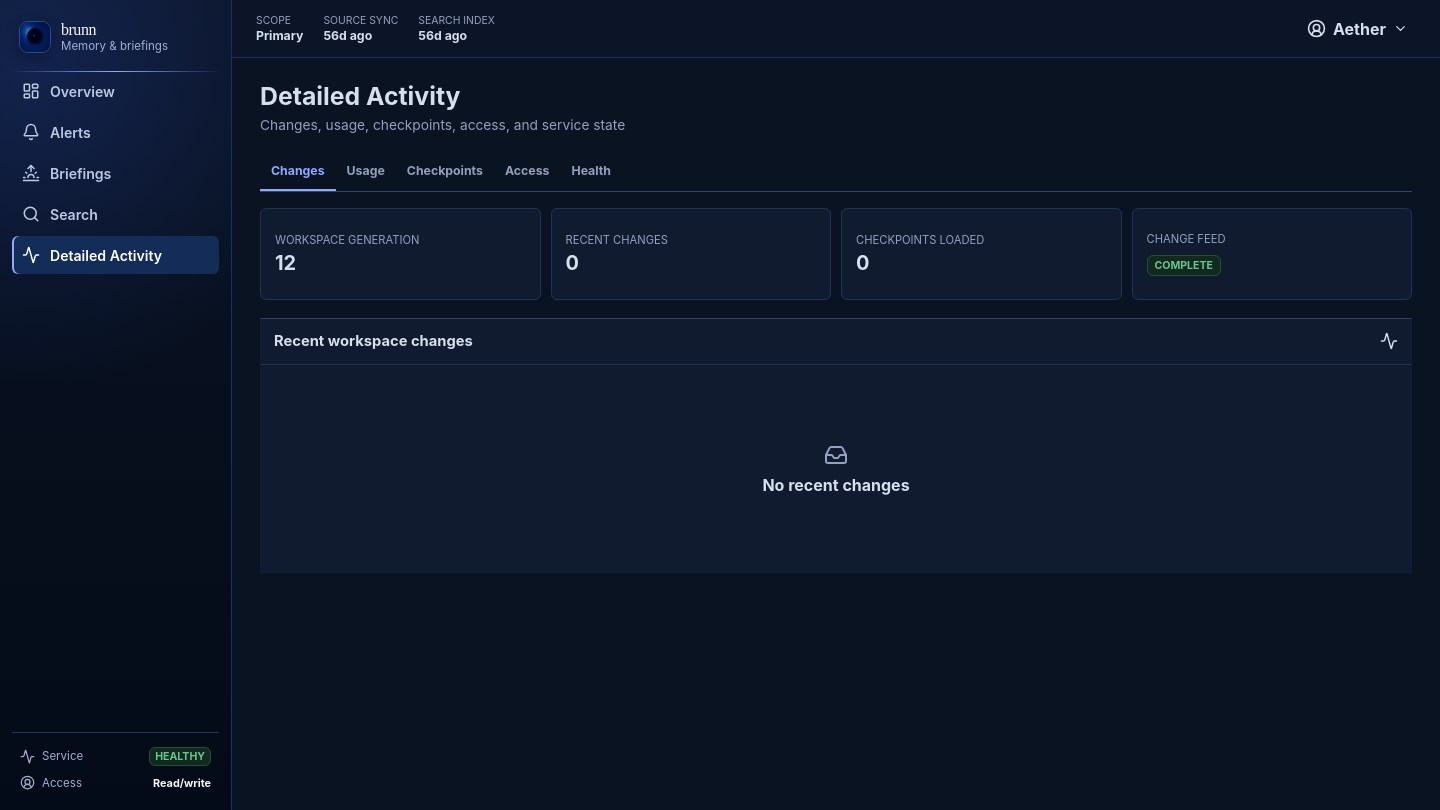
workspace activity and access › defaults new credentials to read/write
Click the tab "Access" at {"x": 527, "y": 172}, box [494, 153, 560, 191]
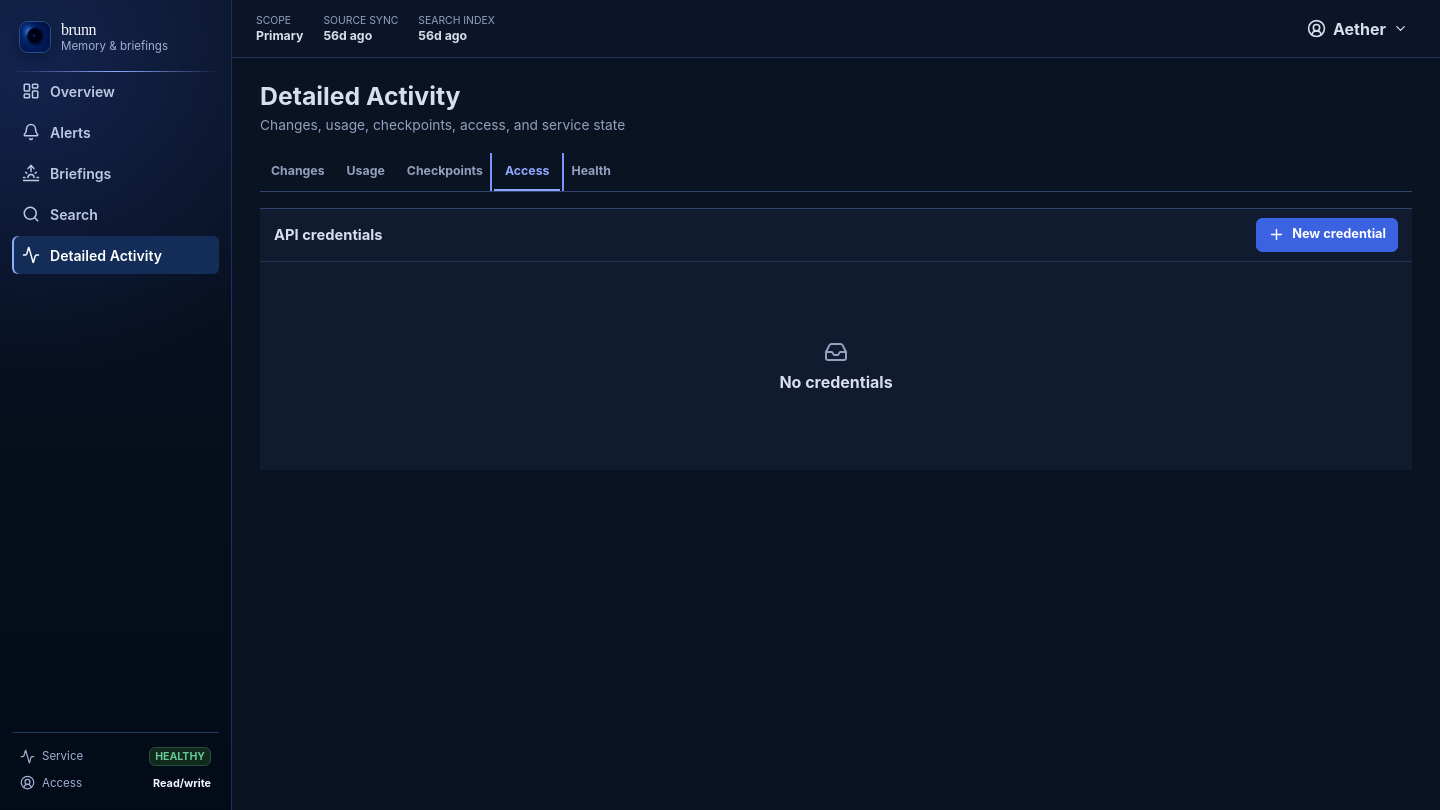
Click the button "New credential" at {"x": 1327, "y": 235}, box [1256, 218, 1398, 252]
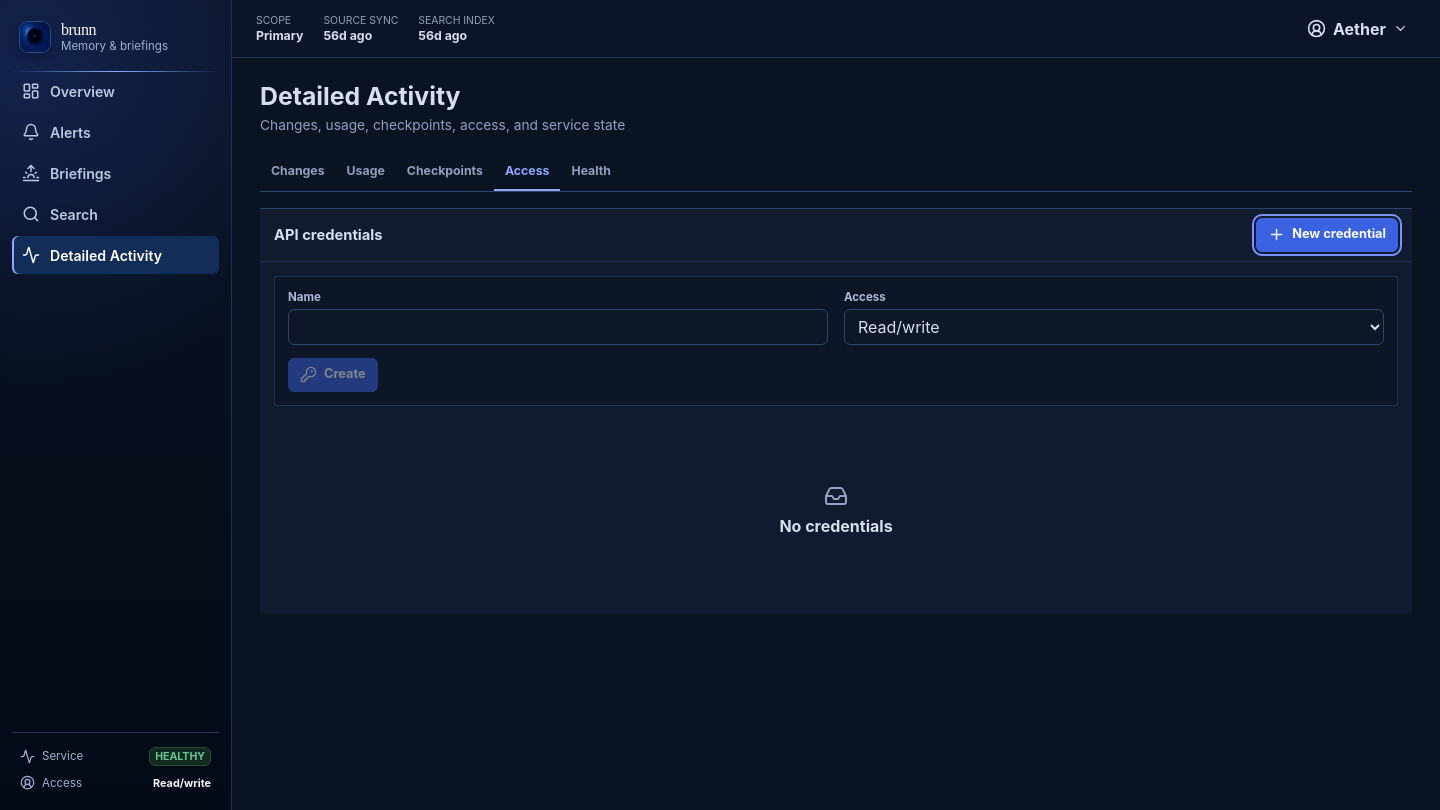
Result: the dropdown labelled "Access" shows "Read/write" at [844, 309, 1384, 345]
Type "Codex on Erebus RW" into the field labelled "Name" at {"x": 558, "y": 327}, box [288, 309, 828, 345]
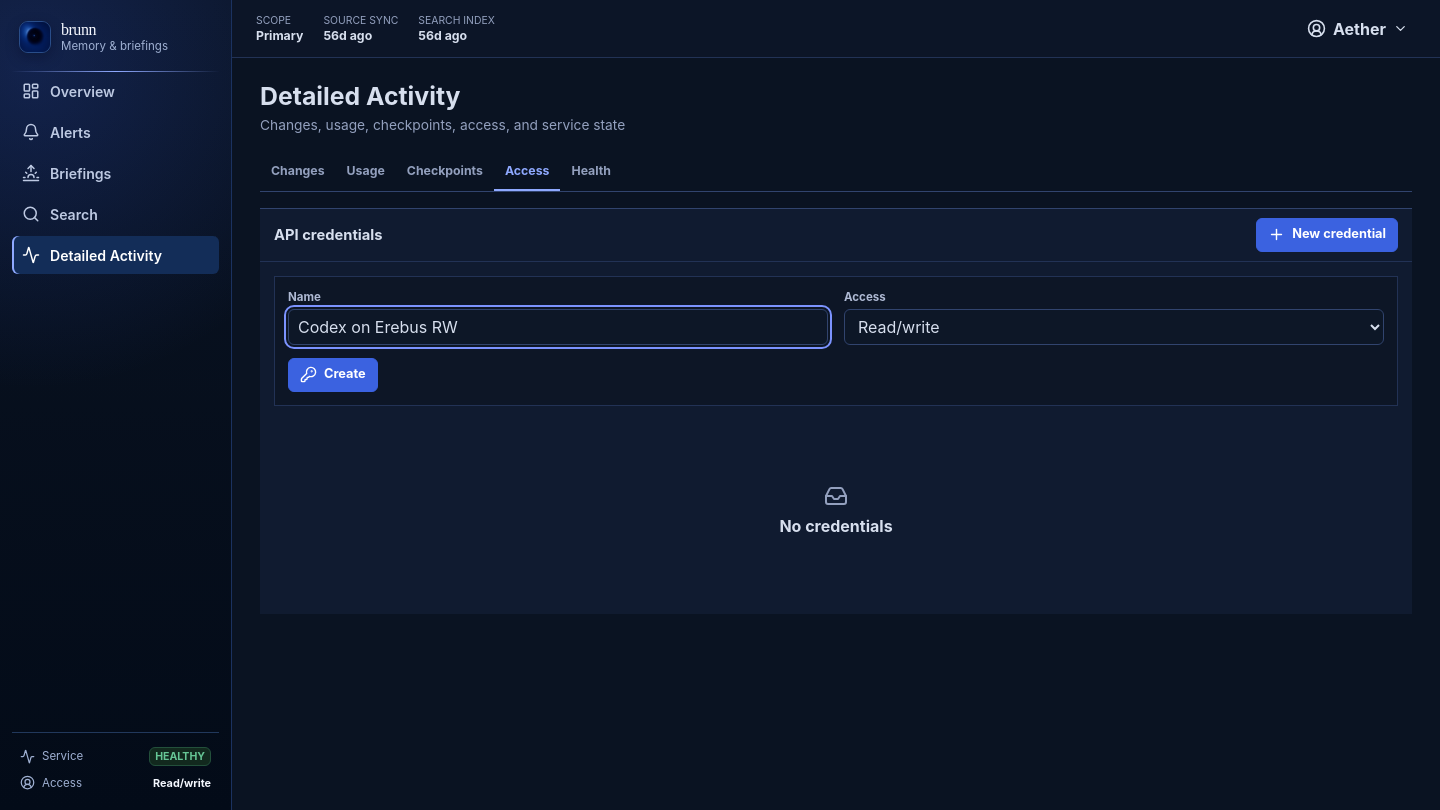
Click the button "Create" at {"x": 333, "y": 375}, box [288, 358, 378, 392]
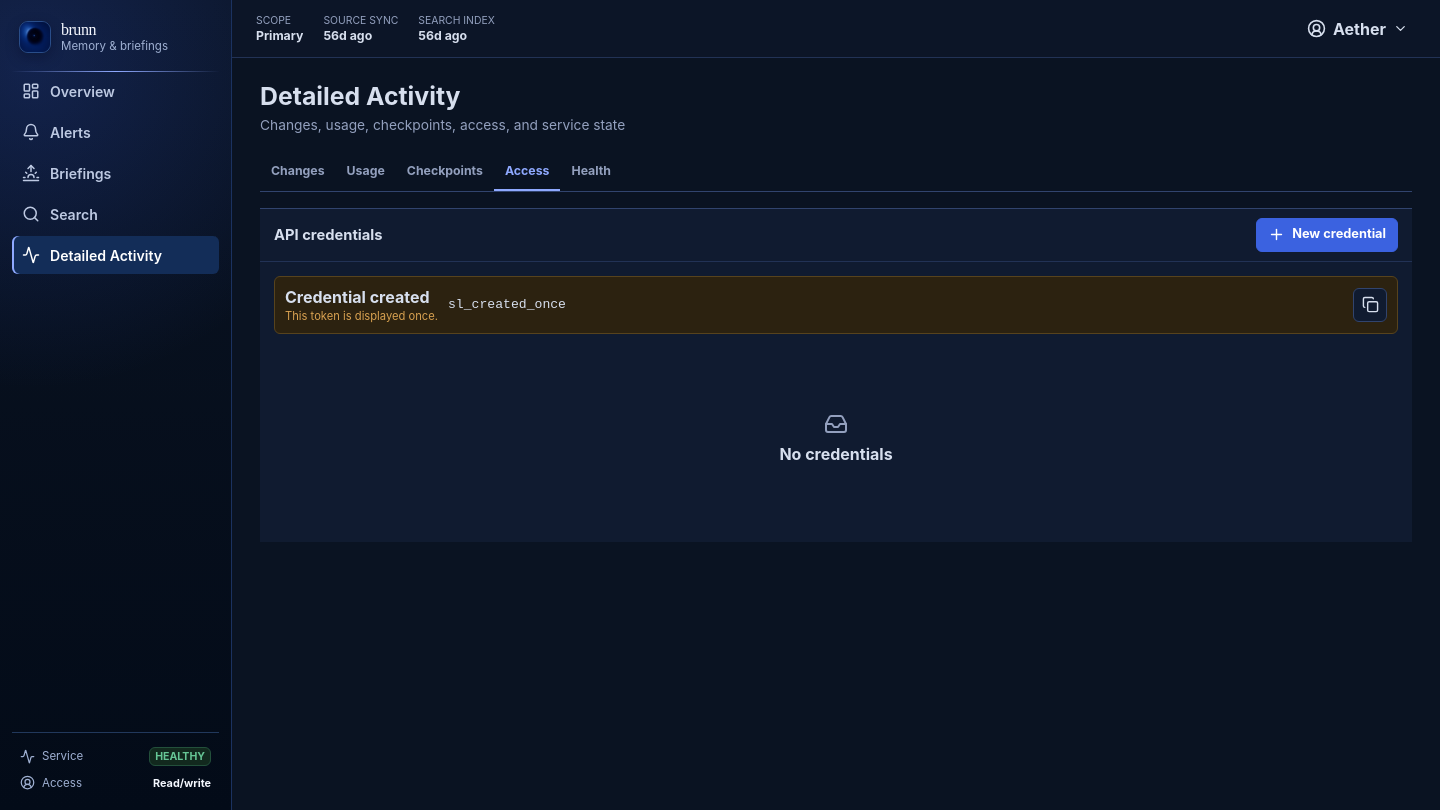
Result: the text "Credential created" is shown at [285, 287, 438, 307]
